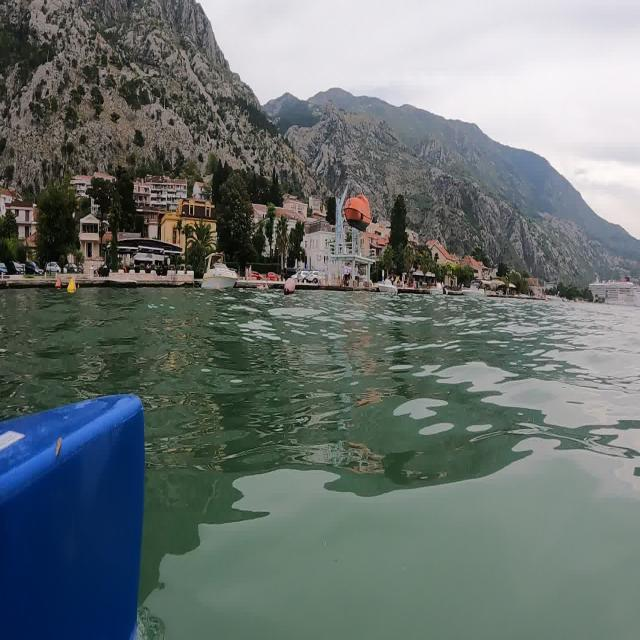boat: (200, 245, 242, 299)
buoy: (64, 265, 82, 302)
